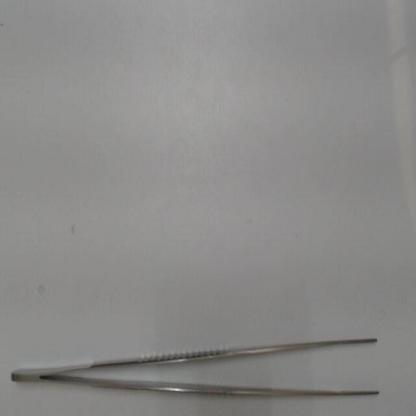DeBakey Dissector: (2, 306, 400, 406)
